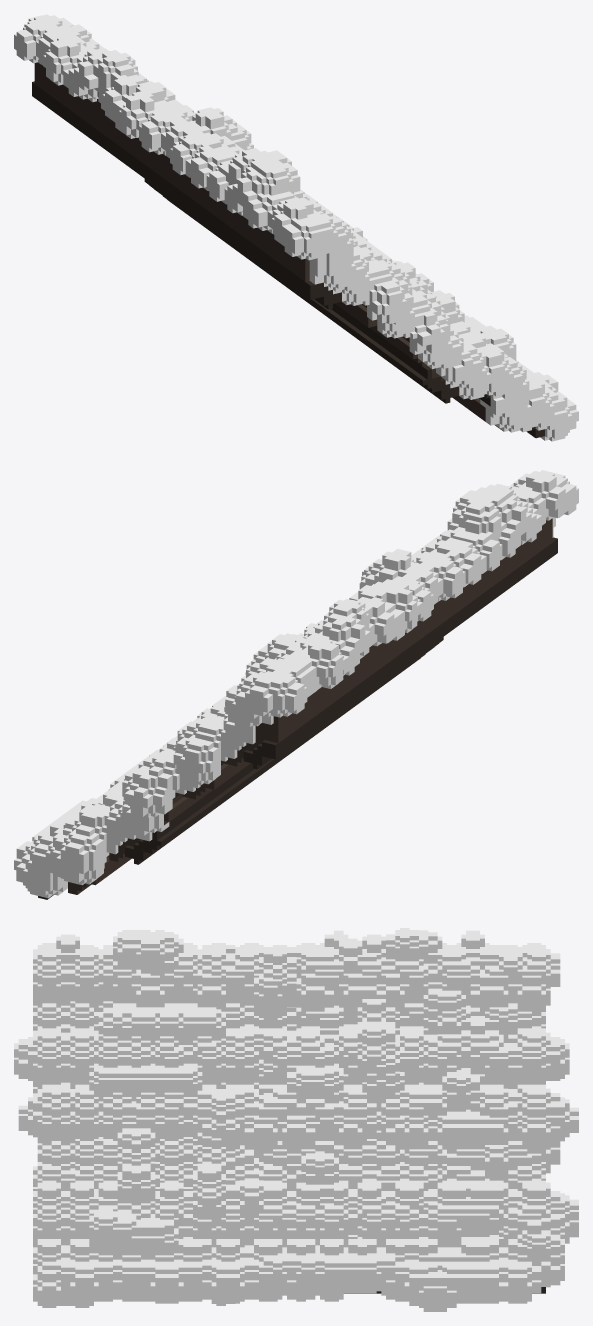
The model's file is RoofEmptySnowed.obj.
3 views of the same model, one above another, from view 1: azimuth 30°, elevation 25°; view 2: azimuth 150°, elevation 25°; view 3: azimuth 270°, elevation 25° (orthographic). The views are drawn at different scales.
Size of the model in its own units: 6.5 by 6.2 by 12.
Materials: 1 (1 with a texture image).
